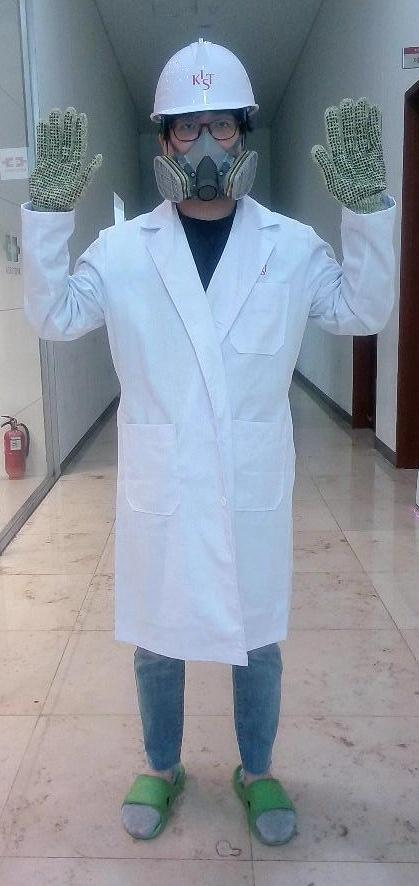lab_coat: (91, 214, 322, 660)
